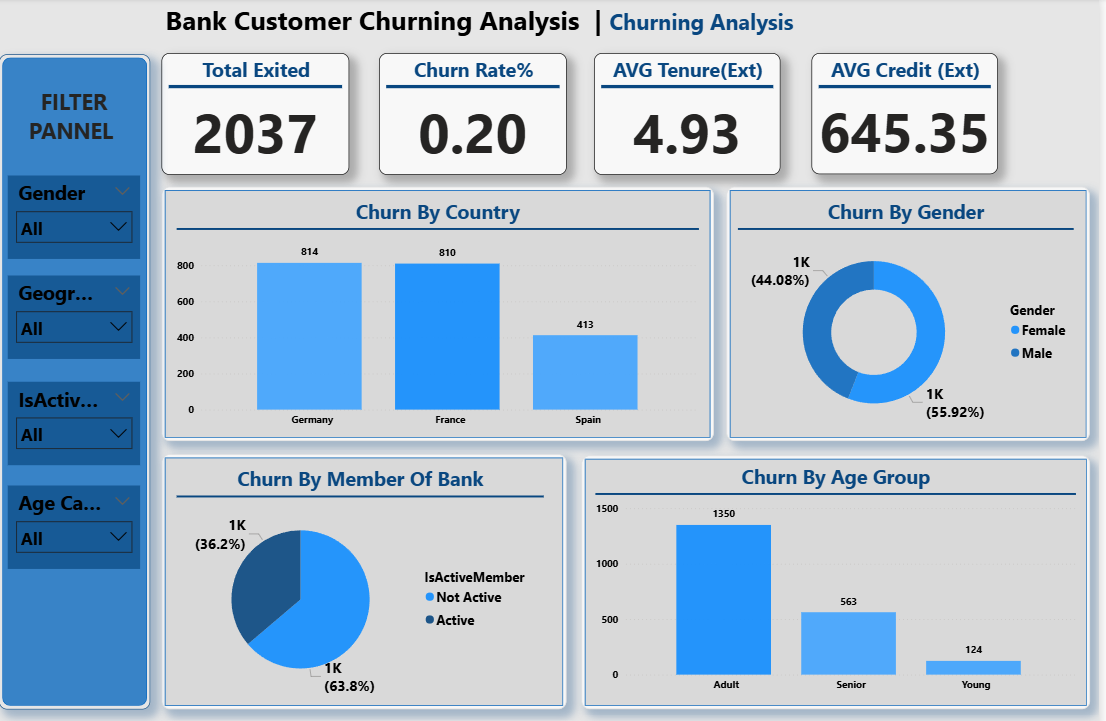

What the dashboard file says about the page in this screenshot:
{"tool":"powerbi","page":{"name":"Churning Analysis ","canvas":[1350,900],"ordinal":2},"visuals":[{"type":"textbox","box":[199.4,0,797.6,55.2],"z":0},{"type":"card","title":"Total Exited ","fields":{"Values":["Churn_Modelling (1).Total Exited Customers"]},"box":[199,66.8,230.4,150],"z":1000},{"type":"card","title":"Churn Rate%","fields":{"Values":["Churn_Modelling (1).Churn Rate"]},"box":[466.3,66.8,230.4,150],"z":2000},{"type":"card","title":"AVG Tenure(Ext)","fields":{"Values":["Churn_Modelling (1).Avg Tenure (Exited)"]},"box":[730.7,66.8,229,150],"z":3000},{"type":"card","title":"AVG Credit (Ext)","fields":{"Values":["Churn_Modelling (1).Avg Credit Score (Exited)"]},"box":[996.9,67.5,229,149],"z":4000},{"type":"shape","box":[199,231.8,677.6,312.2],"z":5000},{"type":"shape","box":[893,231.8,445.8,312.2],"z":6000},{"type":"shape","box":[199.4,559.8,496.9,312.9],"z":7000},{"type":"shape","box":[714.7,561.4,624.2,311.4],"z":8000},{"type":"donutChart","title":"Churn By Gender","fields":{"Y":["Churn_Modelling (1).Total Exited Customers"],"Category":["Churn_Modelling (1).Gender"]},"box":[901.8,245.4,421.8,289.9],"z":9000},{"type":"pieChart","title":"Churn By Member Of Bank","fields":{"Y":["Churn_Modelling (1).Total Exited Customers"],"Category":["Churn_Modelling (1).IsActiveMember"]},"box":[213.2,573.6,460,289],"z":10000},{"type":"clusteredColumnChart","title":"Churn By Age Group","fields":{"Y":["Churn_Modelling (1).Total Exited Customers"],"Category":["Churn_Modelling (1).Age Category"]},"box":[727,570.6,599.7,289.9],"z":11000},{"type":"clusteredColumnChart","title":"Churn By Country","fields":{"Y":["Churn_Modelling (1).Total Exited Customers"],"Category":["Churn_Modelling (1).Geography"]},"box":[213.2,245.4,650.3,289.9],"z":12000},{"type":"shape","box":[0,69,185.6,803.7],"z":13000},{"type":"textbox","box":[24.5,104.3,135,84.4],"z":14000},{"type":"slicer","fields":{"Values":["Churn_Modelling (1).Gender"]},"box":[10.7,217.8,162.6,102.8],"z":15000},{"type":"slicer","fields":{"Values":["Churn_Modelling (1).Geography"]},"box":[10.7,340.5,162.6,102.8],"z":16000},{"type":"slicer","fields":{"Values":["Churn_Modelling (1).IsActiveMember"]},"box":[10.7,470.9,162.6,102.8],"z":17000},{"type":"slicer","fields":{"Values":["Churn_Modelling (1).Age Category"]},"box":[10.7,598.2,162.6,102.8],"z":18000}]}

Visuals, with their boxes in screenshot pixels (x1, y1, x2, y2), scaled from the page's 1350x900 canvas onto the 1106x721 screenshot:
textbox: (x1=163, y1=0, x2=817, y2=44)
"Total Exited " card: (x1=163, y1=54, x2=352, y2=174)
"Churn Rate%" card: (x1=382, y1=54, x2=571, y2=174)
"AVG Tenure(Ext)" card: (x1=599, y1=54, x2=786, y2=174)
"AVG Credit (Ext)" card: (x1=817, y1=54, x2=1004, y2=173)
shape: (x1=163, y1=186, x2=718, y2=436)
shape: (x1=732, y1=186, x2=1097, y2=436)
shape: (x1=163, y1=448, x2=570, y2=699)
shape: (x1=586, y1=450, x2=1097, y2=699)
"Churn By Gender" donutChart: (x1=739, y1=197, x2=1084, y2=429)
"Churn By Member Of Bank" pieChart: (x1=175, y1=460, x2=552, y2=691)
"Churn By Age Group" clusteredColumnChart: (x1=596, y1=457, x2=1087, y2=689)
"Churn By Country" clusteredColumnChart: (x1=175, y1=197, x2=707, y2=429)
shape: (x1=0, y1=55, x2=152, y2=699)
textbox: (x1=20, y1=84, x2=131, y2=151)
slicer - Churn_Modelling (1).Gender: (x1=9, y1=174, x2=142, y2=257)
slicer - Churn_Modelling (1).Geography: (x1=9, y1=273, x2=142, y2=355)
slicer - Churn_Modelling (1).IsActiveMember: (x1=9, y1=377, x2=142, y2=460)
slicer - Churn_Modelling (1).Age Category: (x1=9, y1=479, x2=142, y2=562)
